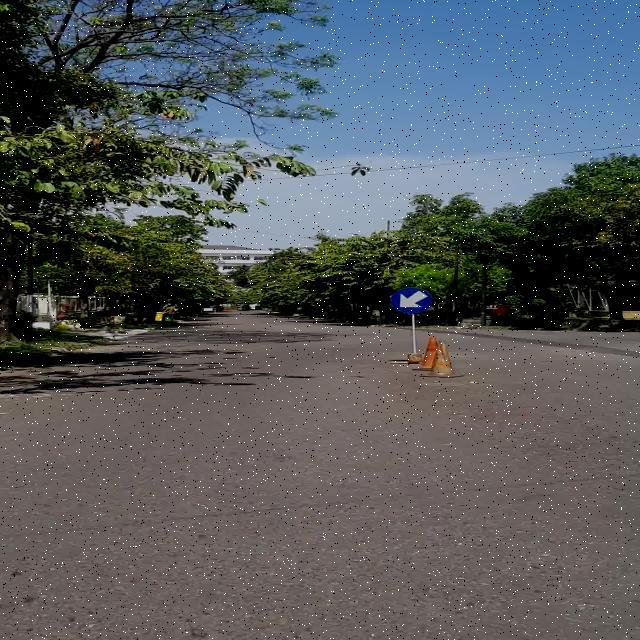Lajur Kiri: (391, 288, 432, 314)
